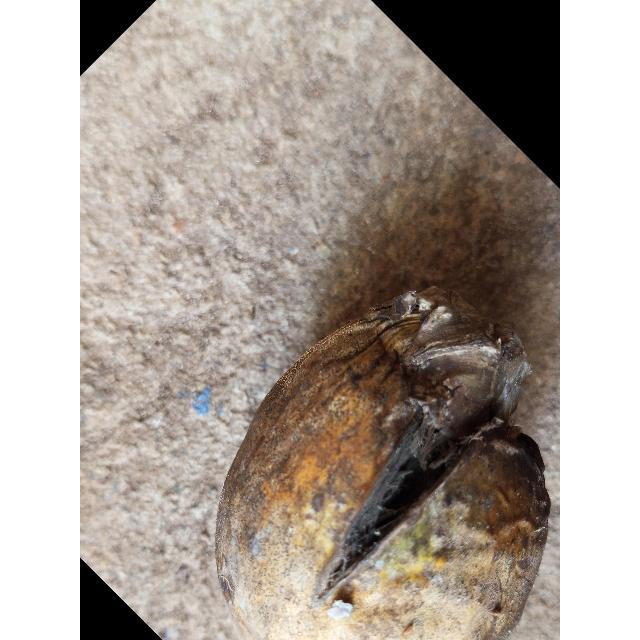damaged: (214, 290, 551, 640)
